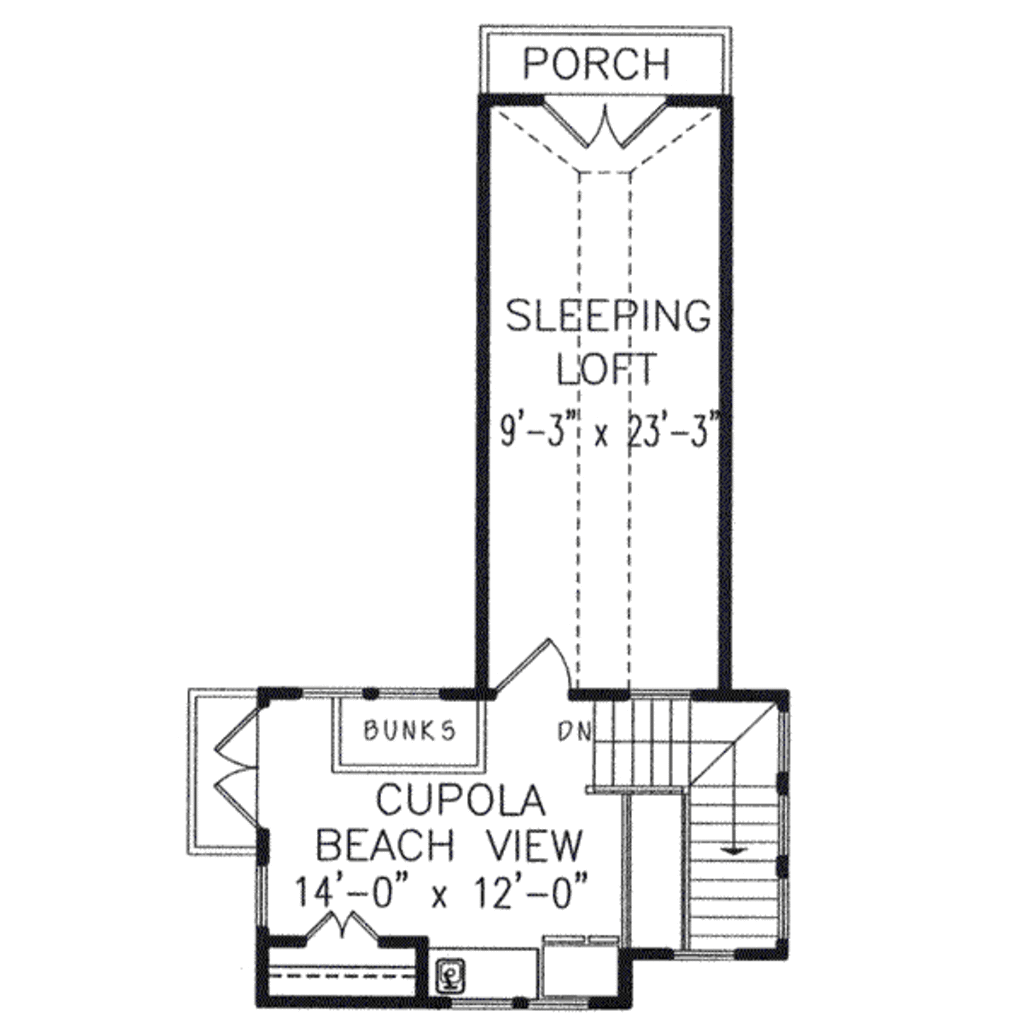door: (210, 704, 270, 837), (541, 92, 663, 148), (496, 642, 573, 703), (301, 911, 373, 951)
stairs: (589, 696, 777, 949)
windows: (300, 680, 443, 705), (448, 994, 592, 1013)
